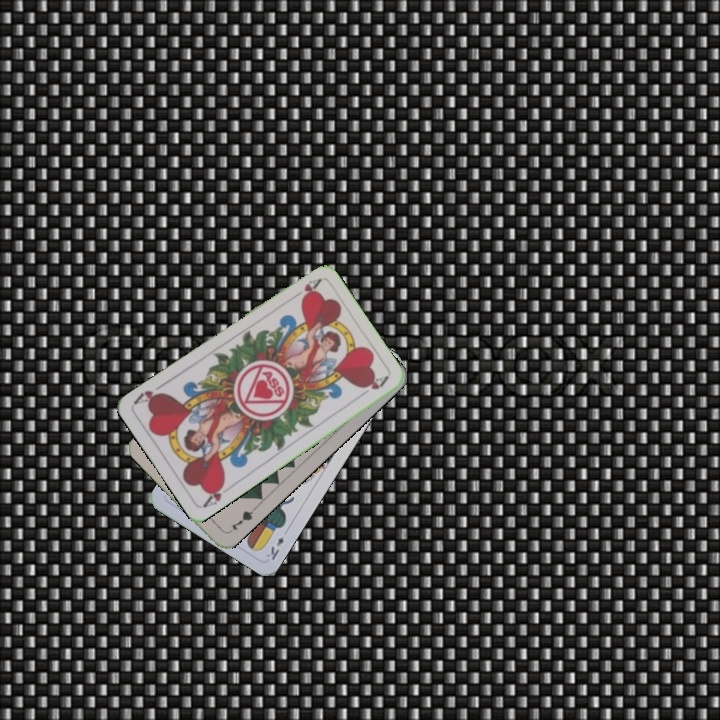EK: (262, 532, 287, 563)
G7: (224, 505, 257, 536)
HA: (199, 477, 235, 510), (287, 275, 323, 302)
